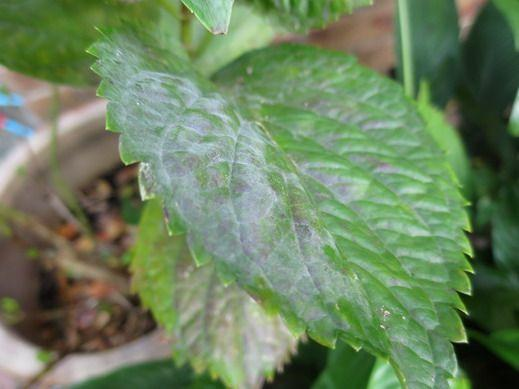Squash Powdery mildew leaf: (72, 10, 475, 389)
